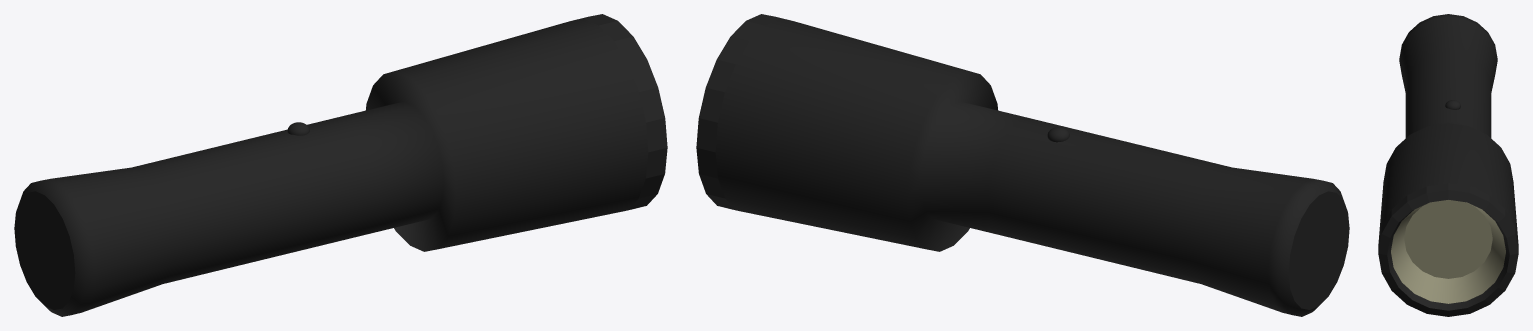
The model's file is lampara.fbx.
3 views of the same model, side by side, from view 1: azimuth 30°, elevation 25°; view 2: azimuth 150°, elevation 25°; view 3: azimuth 270°, elevation 25° (orthographic). The views are drawn at different scales.
Visible parts, largest first — view 1: pasted__pCylinder2; view 2: pasted__pCylinder2; view 3: pasted__pCylinder2.
Part boxes in pixels (<box>): pasted__pCylinder2: <box>14,14,667,316</box>; pasted__pCylinder2: <box>696,14,1349,316</box>; pasted__pCylinder2: <box>1378,14,1518,316</box>.
Bounding box in the file's own units: 10.97 × 3.27 × 3.27.
